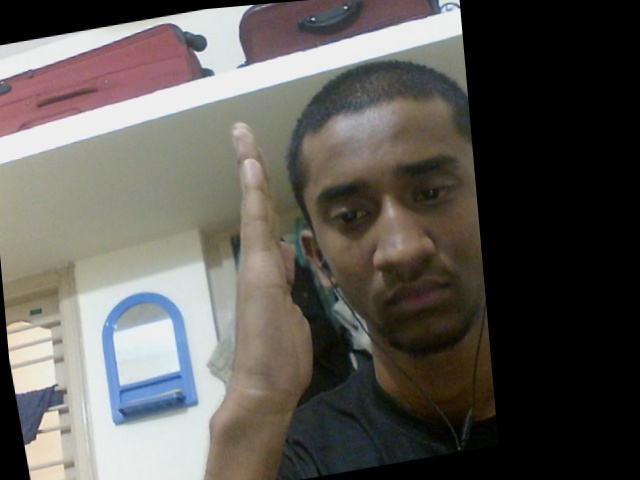hand: (224, 118, 317, 412)
